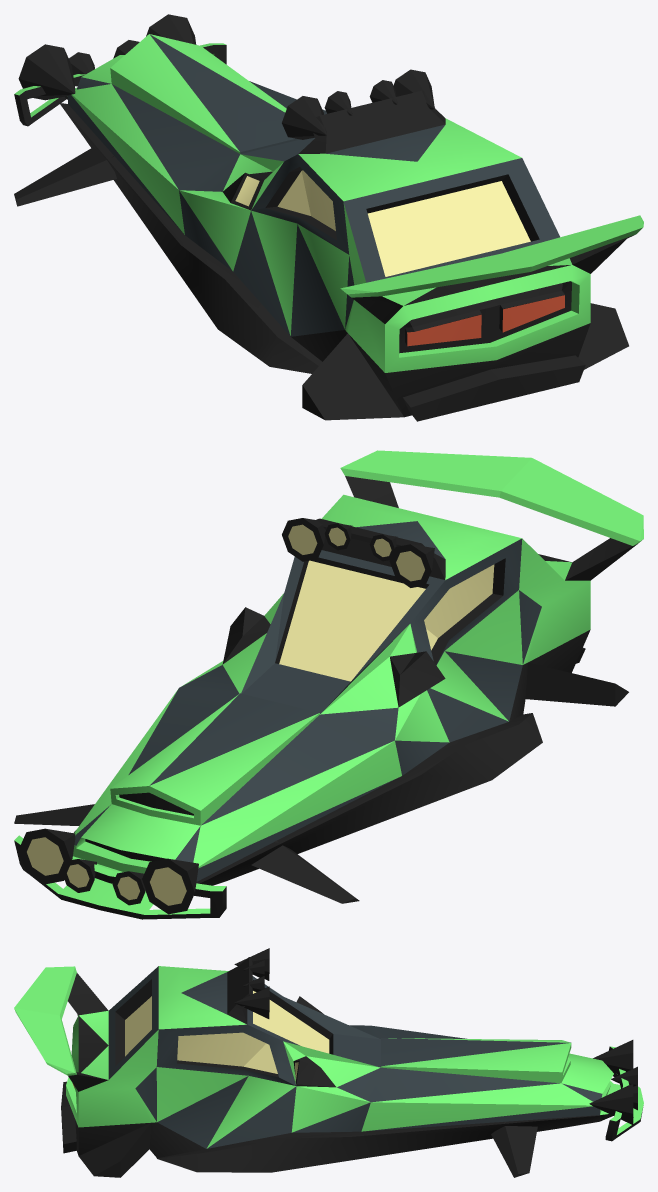
Rendered from buggy1.glb.
3 views of the same model, one above another, from view 1: azimuth 30°, elevation 25°; view 2: azimuth 150°, elevation 25°; view 3: azimuth 270°, elevation 25° (orthographic). The views are drawn at different scales.
Parts seen in each view (by area): view 1: buggy1; view 2: buggy1; view 3: buggy1.
Part boxes in pixels (<box>): buggy1: <box>14,14,643,421</box>; buggy1: <box>14,450,643,919</box>; buggy1: <box>14,948,643,1177</box>.
Size of the model in its own units: 1.16 by 0.7064 by 2.54.
Materials: 1 (1 with a texture image).
